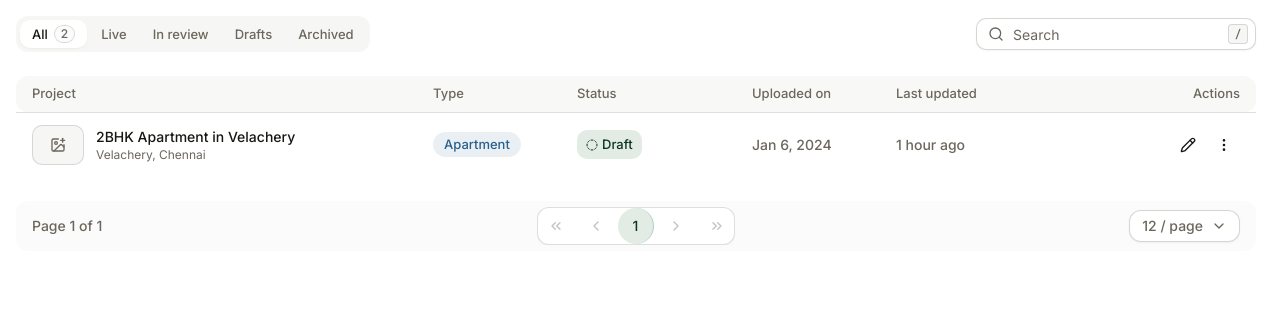
Scenario: DesignerProjectsList › explains draft on keyboard focus and dismisses on Escape
Focus the button "Draft" at point(609, 144), box [577,130,642,159]
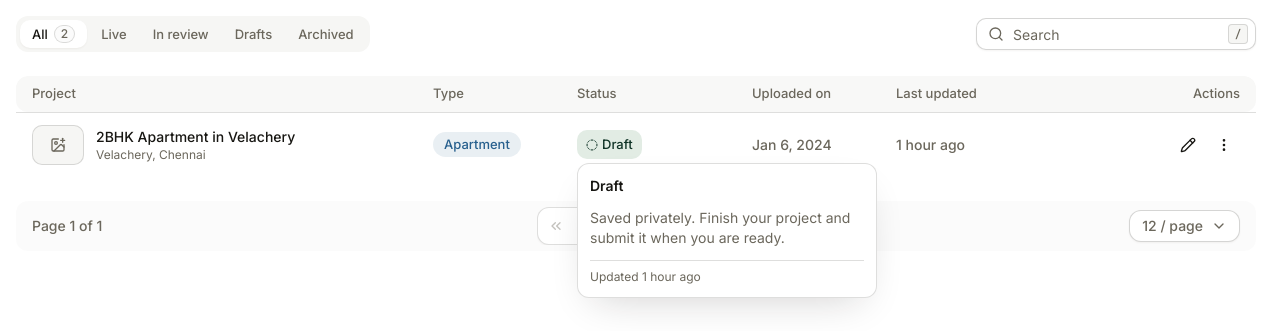
Result: the tooltip shows "Saved privately" at [590,209,850,246]
Press Escape
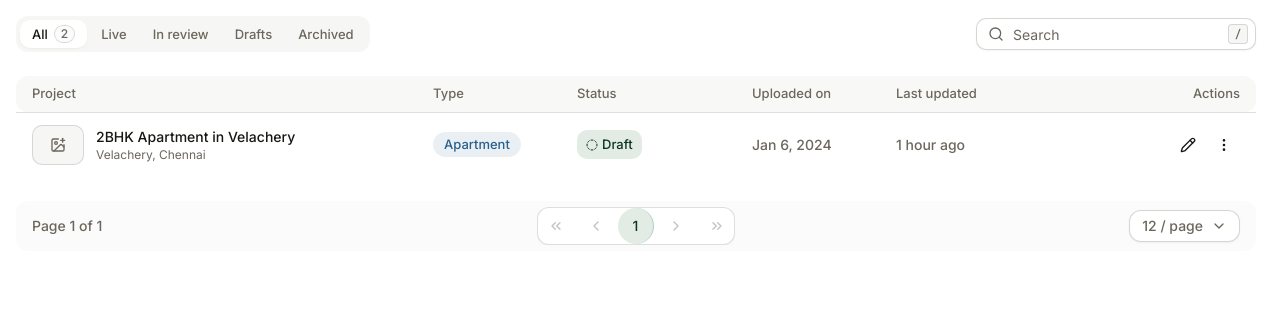
Result: the tooltip is gone
